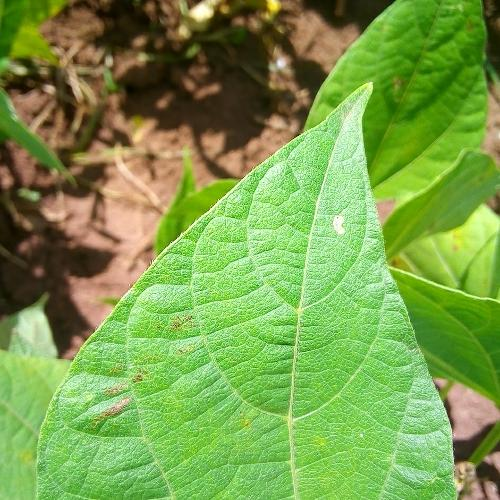sehat: (132, 283, 376, 488)
